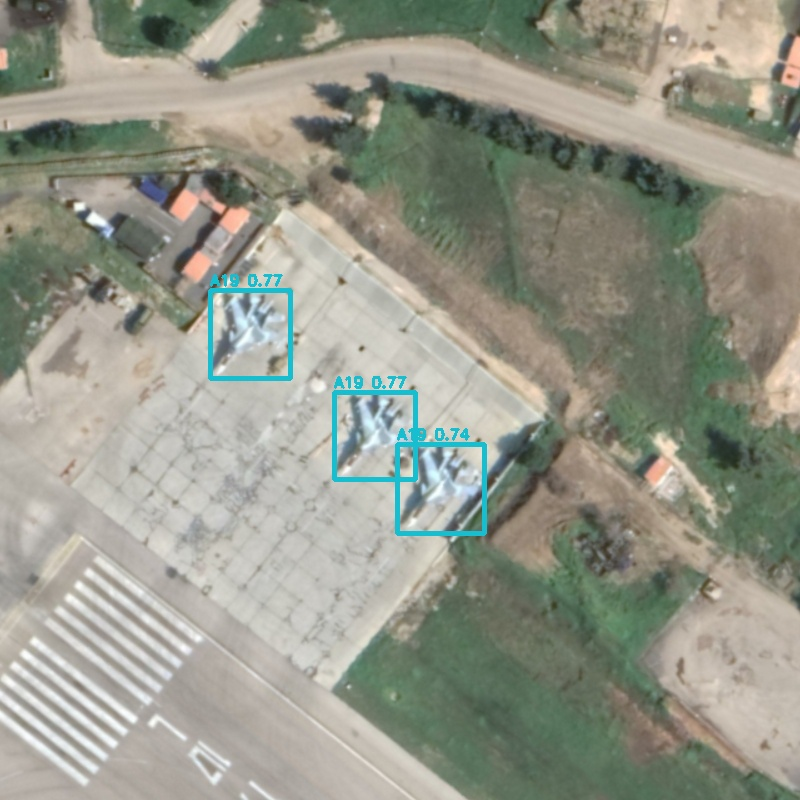A19: (397, 444, 484, 533), (334, 392, 415, 479), (210, 290, 290, 378)
